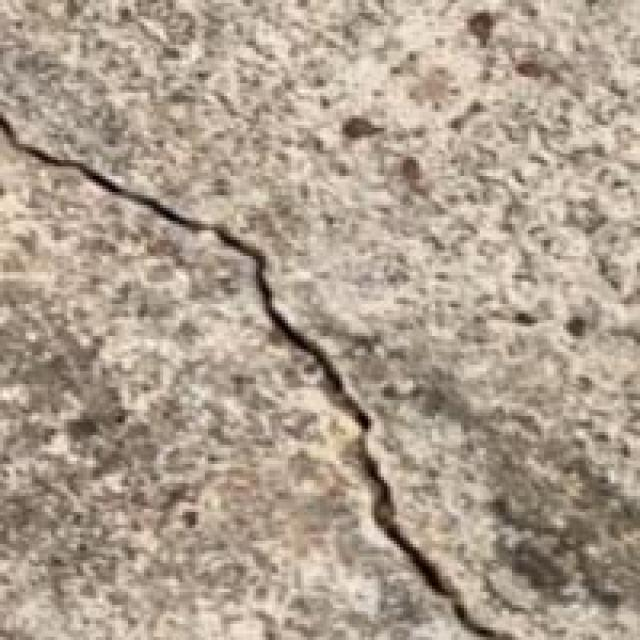Crack: (0, 89, 538, 636)
